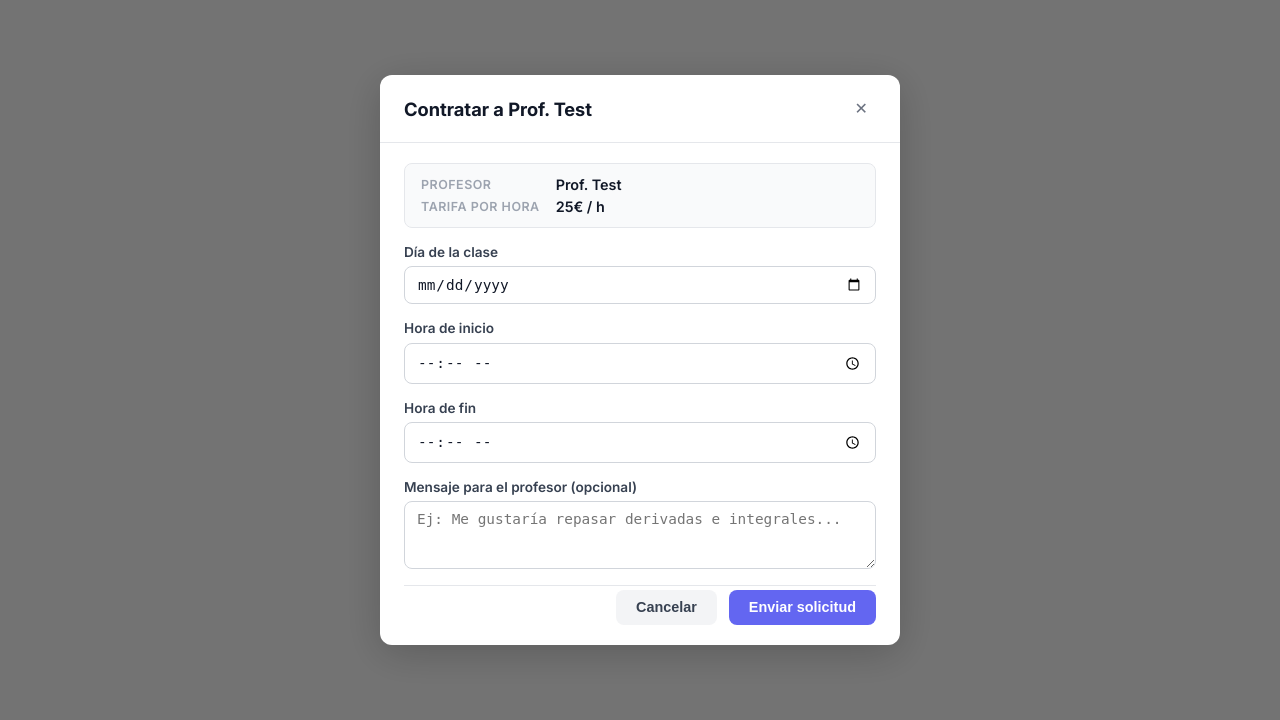
Test: HireDirectModal › shows availability slots
The width and height of the screenshot is (1280, 720).
Type "2025-06-15" into the date field labelled "Día de la clase" at [640, 285], box [404,266,876,304]
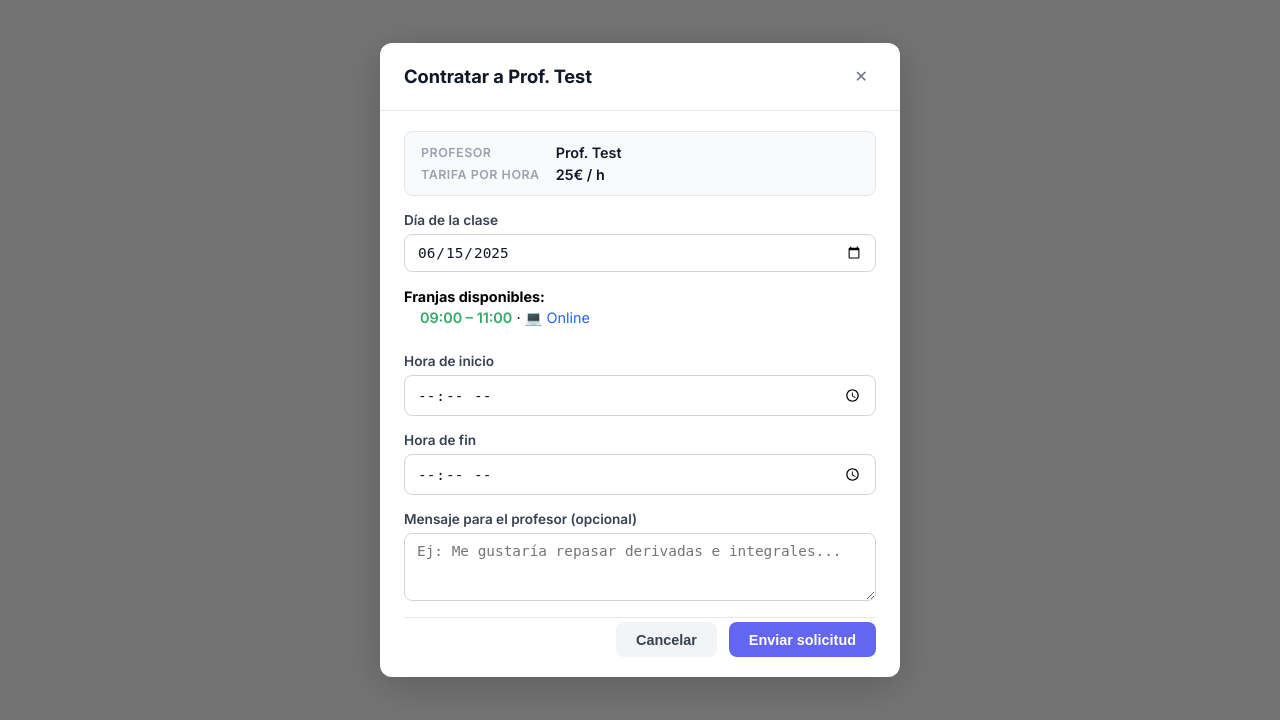
expect the text "09:00 – 11:00" is shown: met, box [420,309,512,326]
